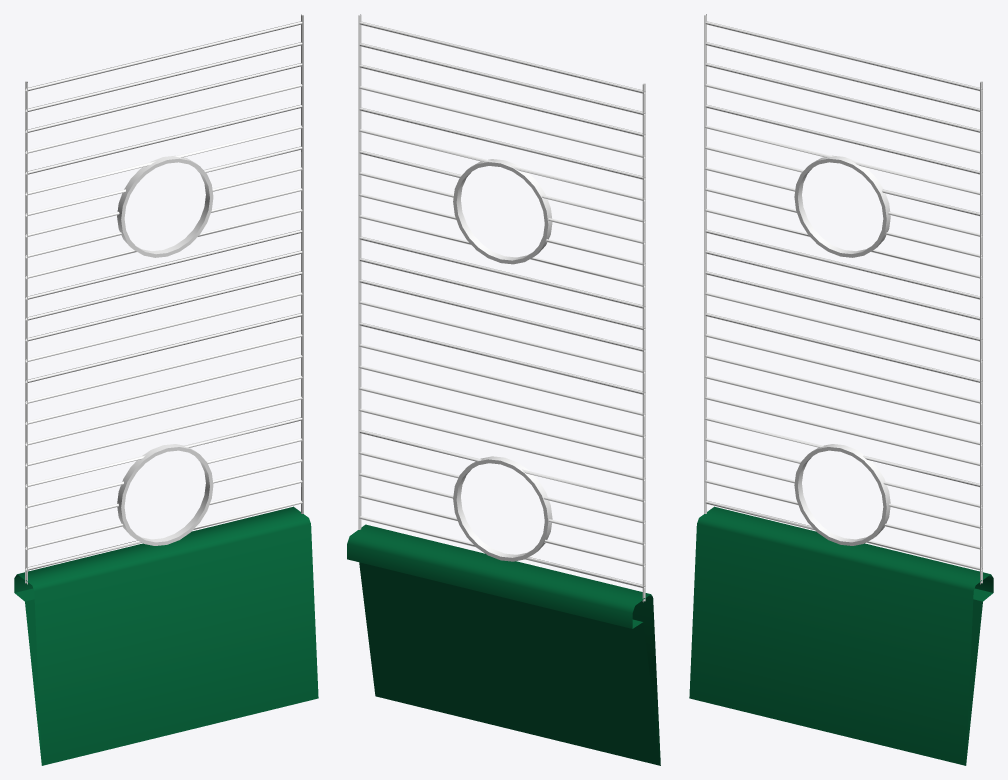
Rendered from Gabbia_muro_H_A.fbx.
The picture shows the model from 3 angles, left to right: view 1: azimuth 30°, elevation 25°; view 2: azimuth 150°, elevation 25°; view 3: azimuth 330°, elevation 25°; orthographic projection. The views are drawn at different scales.
Parts seen in each view (by area): view 1: mesh; view 2: mesh; view 3: mesh.
Part boxes in pixels (x1,y1,x2,y2): mesh: (14, 14, 318, 765); mesh: (347, 14, 660, 765); mesh: (689, 14, 993, 765).
Size of what is drawn, in the model's own units: 6001 by 13931 by 1030.
Materials: 3 (3 with a texture image).
